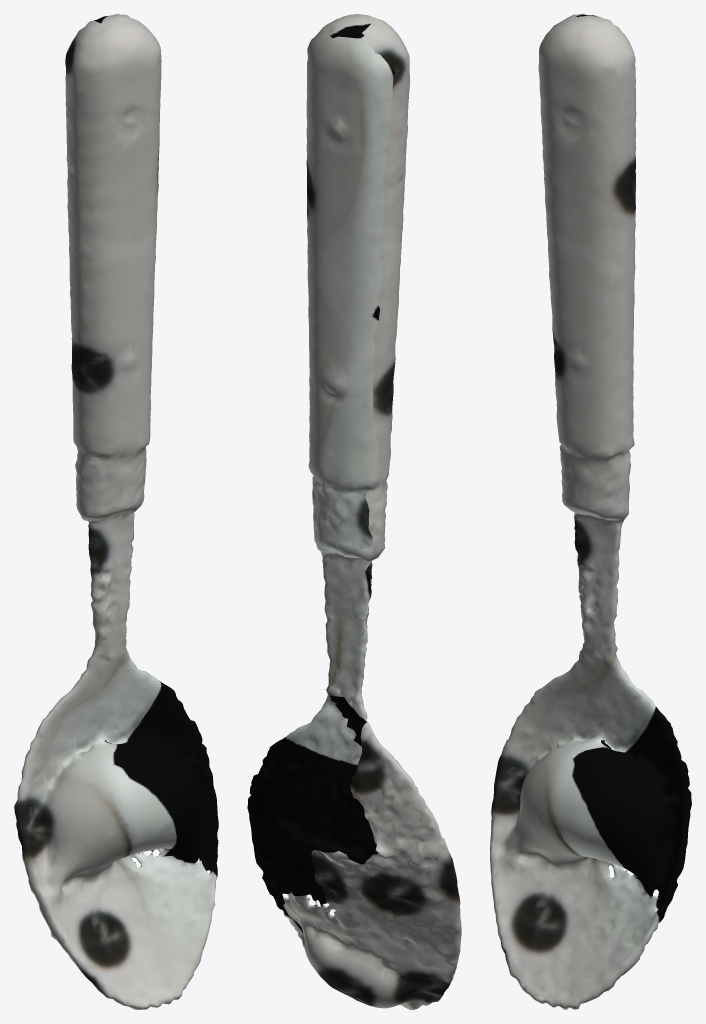
The picture shows the model from 3 angles, left to right: view 1: azimuth 30°, elevation 25°; view 2: azimuth 150°, elevation 25°; view 3: azimuth 330°, elevation 25°; orthographic projection. The views are drawn at different scales.
Parts seen in each view (by area): view 1: textured.026; view 2: textured.026; view 3: textured.026.
Part boxes in pixels (x1,y1,x2,y2): textured.026: [14, 14, 218, 1009]; textured.026: [247, 14, 461, 1009]; textured.026: [490, 14, 691, 1009].
Size of the model in its own units: 0.0416 by 0.1953 by 0.0227.
